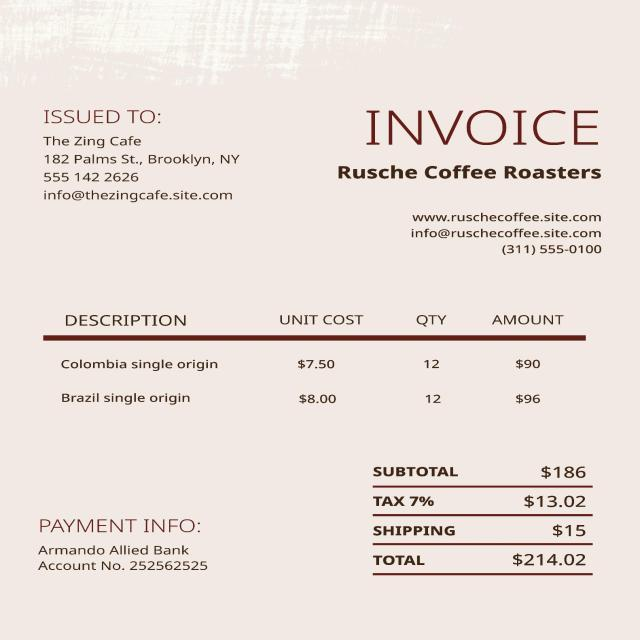ROI: (18, 291, 601, 415), (345, 461, 611, 595), (34, 95, 252, 214), (21, 495, 242, 582), (350, 96, 616, 152), (390, 200, 612, 266), (327, 156, 622, 187)
